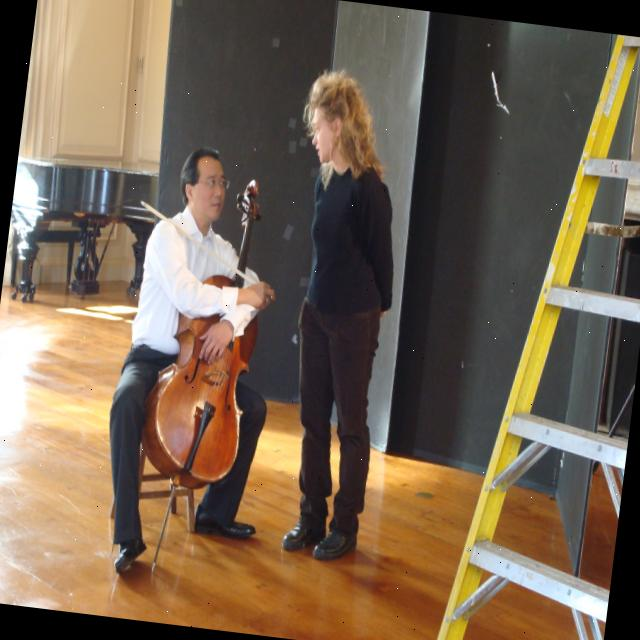cello: (130, 165, 280, 495)
